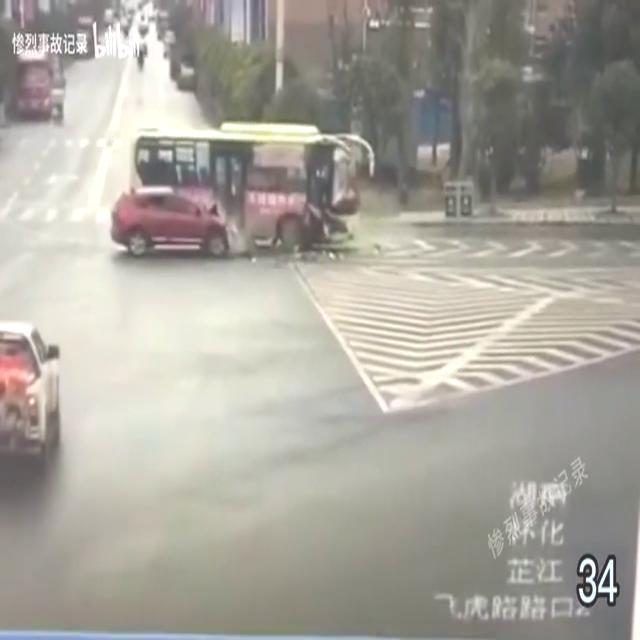accident: (108, 120, 380, 268)
